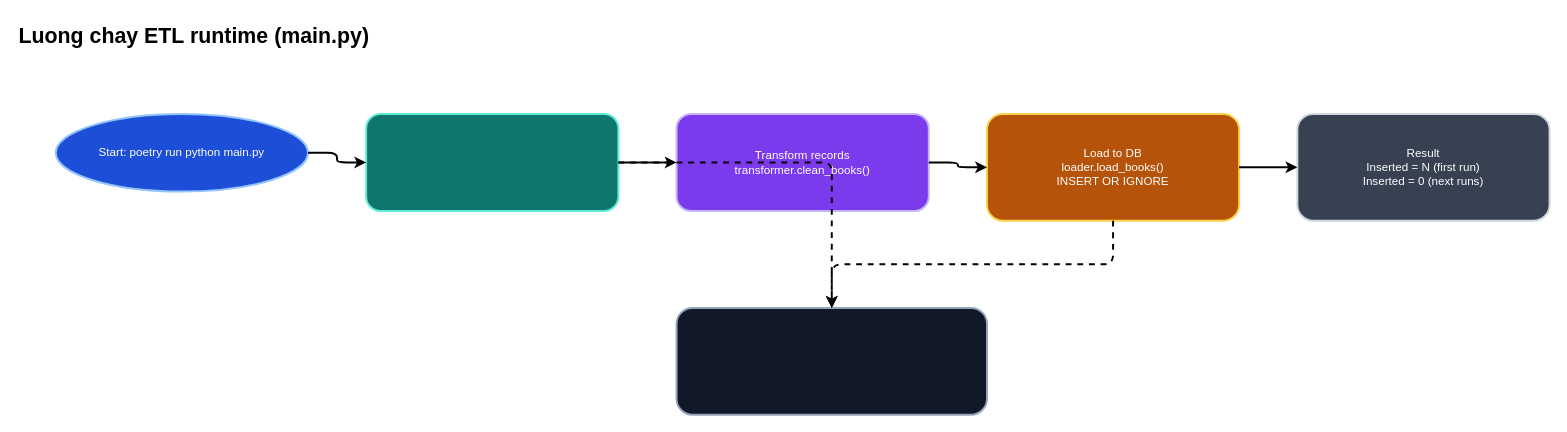
This 1567x432 diagram has some shape labels left out. The shapes that lost their labels are listed below. From the top down, each one's centre as x and y in pixels, then its label:
At point 492,162: "Fetch books from API fetcher.get_books()".
At point 831,361: "Error Handling - timeout - bad response - rollback transaction".
